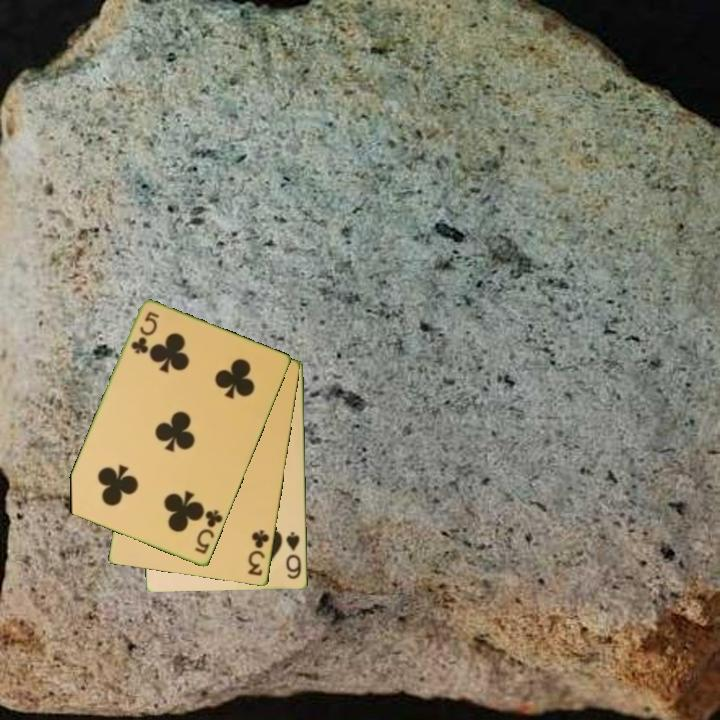3c: (245, 526, 273, 579)
5c: (192, 506, 226, 557), (127, 308, 162, 357)
6s: (283, 528, 304, 582)
